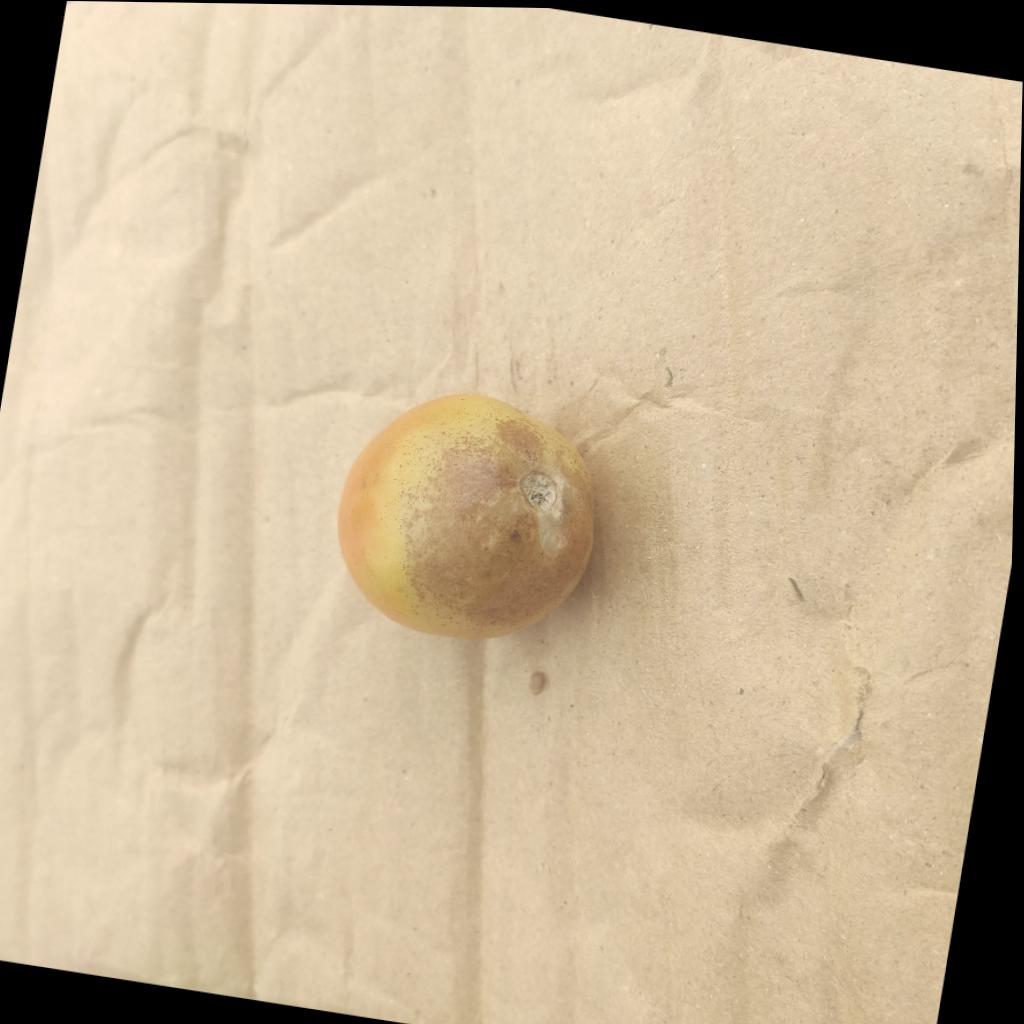bruise_discoloration: (360, 396, 592, 639)
tomato: (339, 395, 593, 639)
